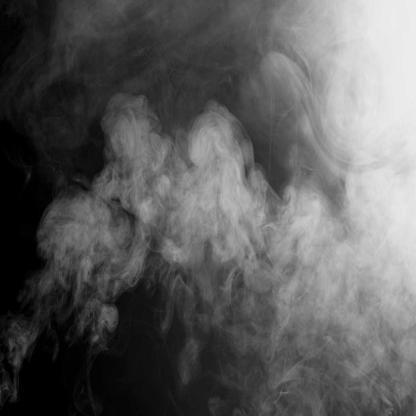smoke: (244, 184, 416, 416), (101, 105, 255, 248), (39, 173, 160, 325)
